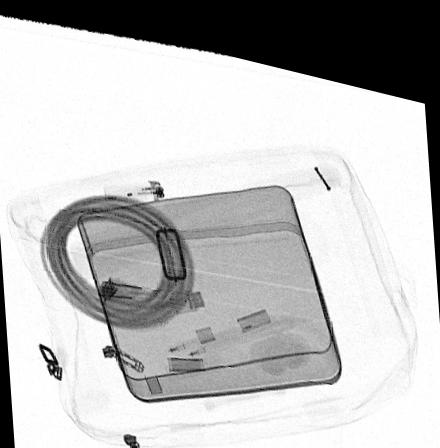Lighter: (103, 172, 165, 195)
